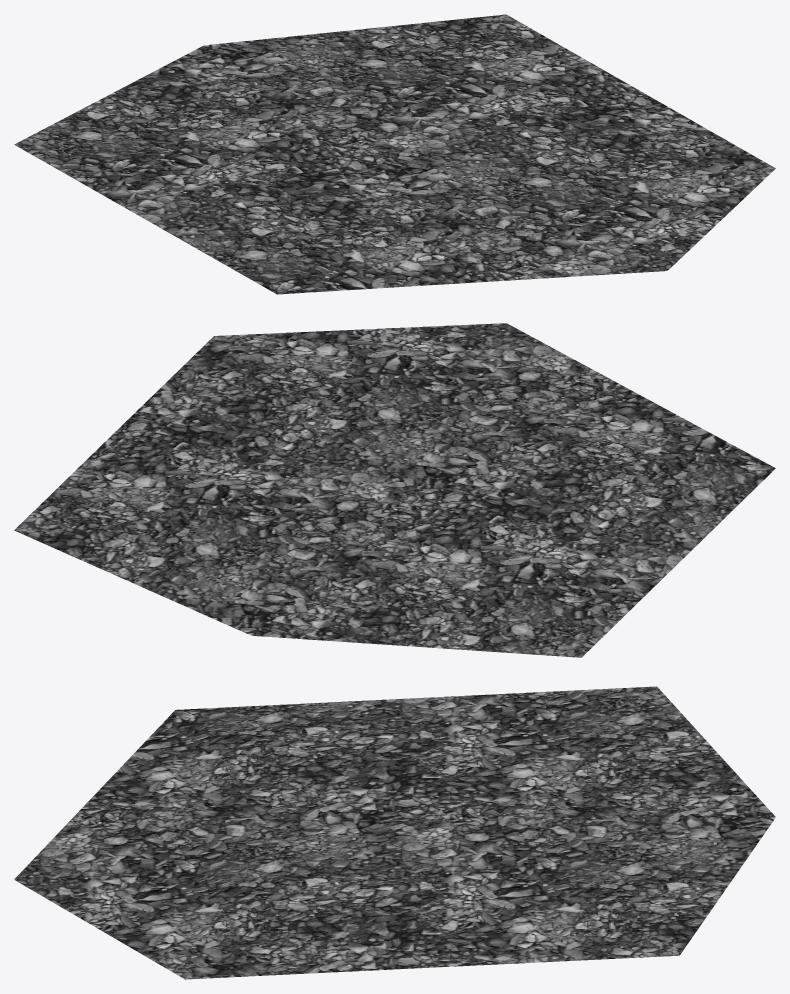
The model's file is herbe_billboard_04.glb.
The picture shows the model from 3 angles, top to bottom: view 1: azimuth 30°, elevation 25°; view 2: azimuth 150°, elevation 25°; view 3: azimuth 270°, elevation 25°; orthographic projection. The views are drawn at different scales.
Parts seen in each view (by area): view 1: Grass02_Art; view 2: Grass02_Art; view 3: Grass02_Art.
Boxes of the visible parts, bbox=[...] form: Grass02_Art: bbox=[14, 14, 775, 294]; Grass02_Art: bbox=[14, 323, 775, 657]; Grass02_Art: bbox=[14, 686, 775, 979].
Bounding box in the file's own units: 5.46 × 0.0553 × 6.
1 material, 1 textured.
